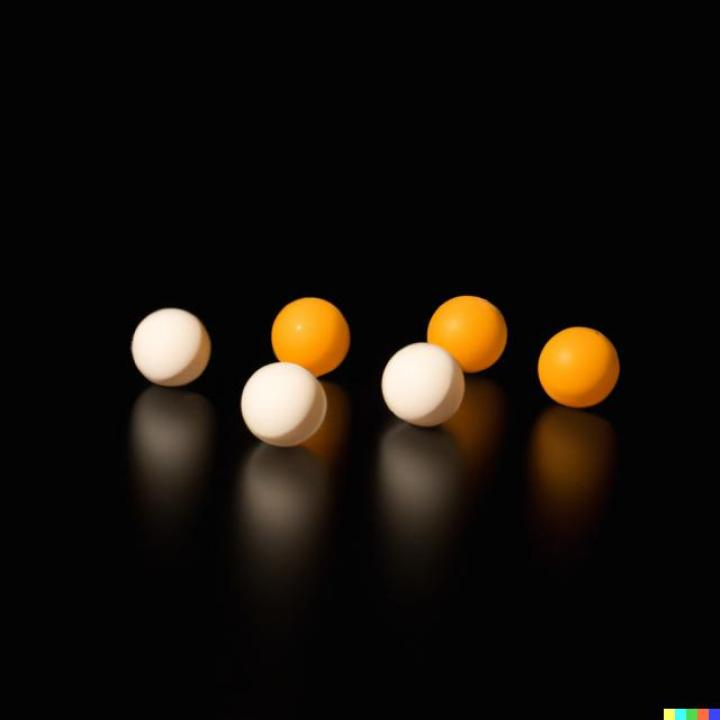orange: (538, 326, 620, 408), (426, 296, 508, 372), (273, 298, 350, 376)
white: (243, 363, 329, 448), (380, 343, 465, 428), (131, 307, 213, 387)
